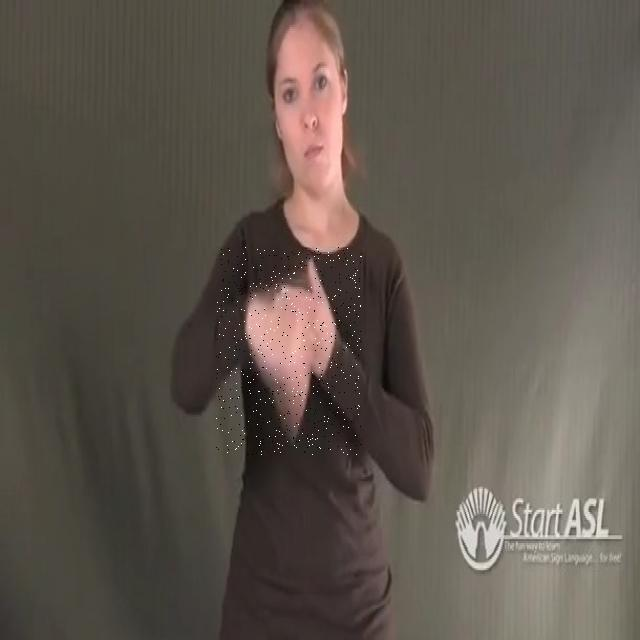bread: (216, 248, 362, 456)
